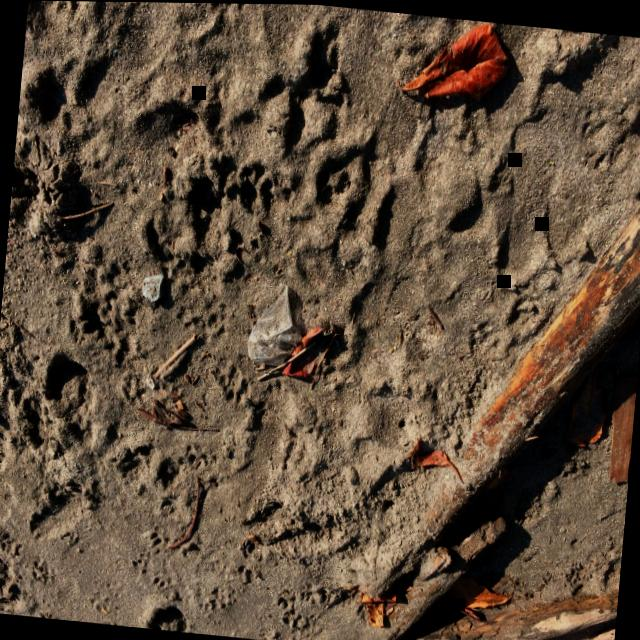Plastic film: (247, 281, 301, 364)
